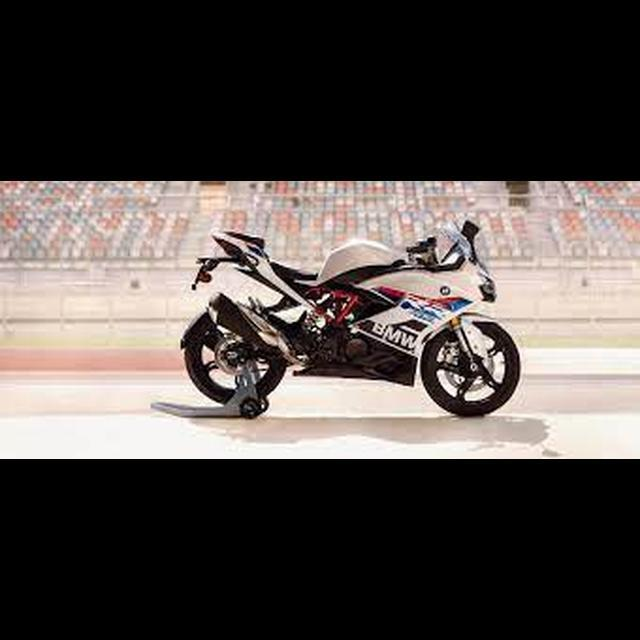motorcycle: (181, 211, 527, 421)
